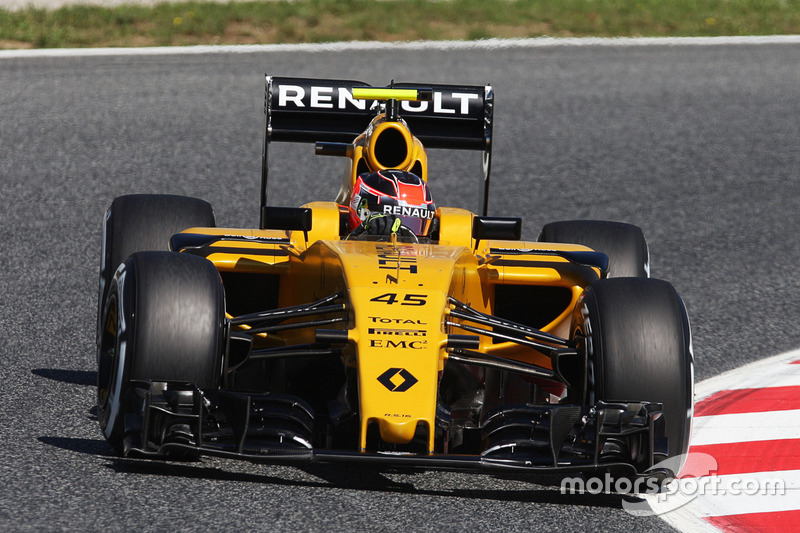F1 Car: (88, 72, 698, 490)
